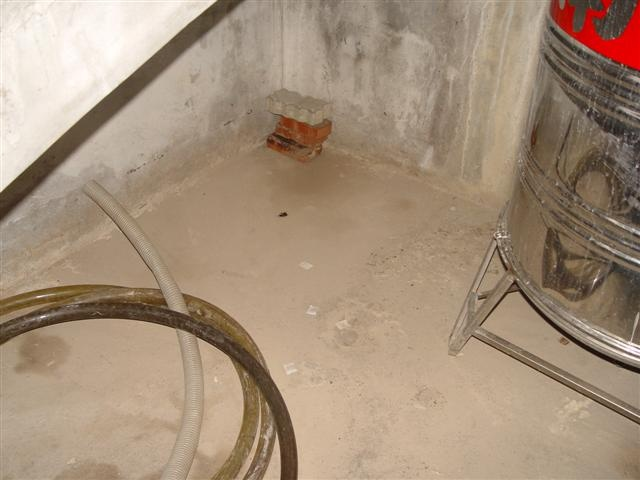water_tower: (453, 1, 640, 429)
